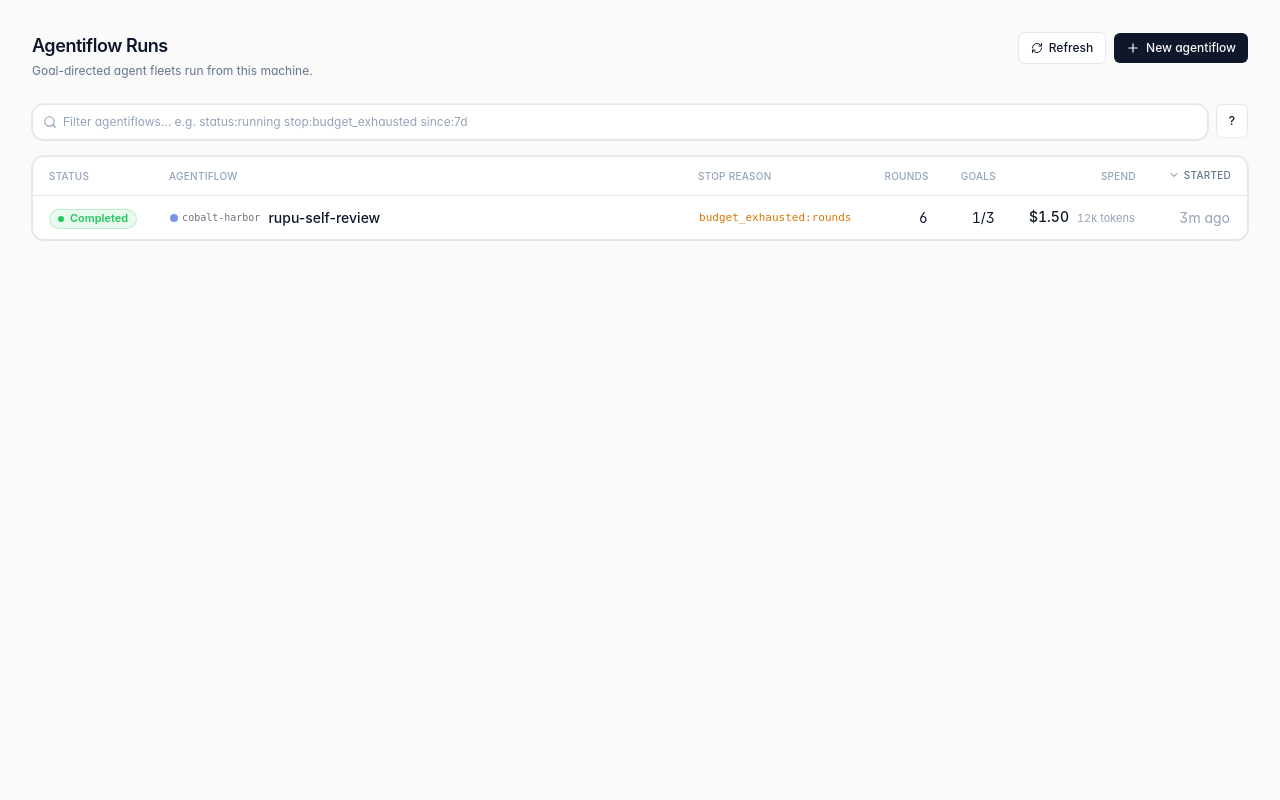
AgentiflowRuns › New agentiflow opens the launcher sheet
The width and height of the screenshot is (1280, 800).
Check: the text "rupu-self-review" is shown, box 268,208 -> 380,228
Click the button "New agentiflow".
click(1181, 48)  # box 1114,33 -> 1248,63
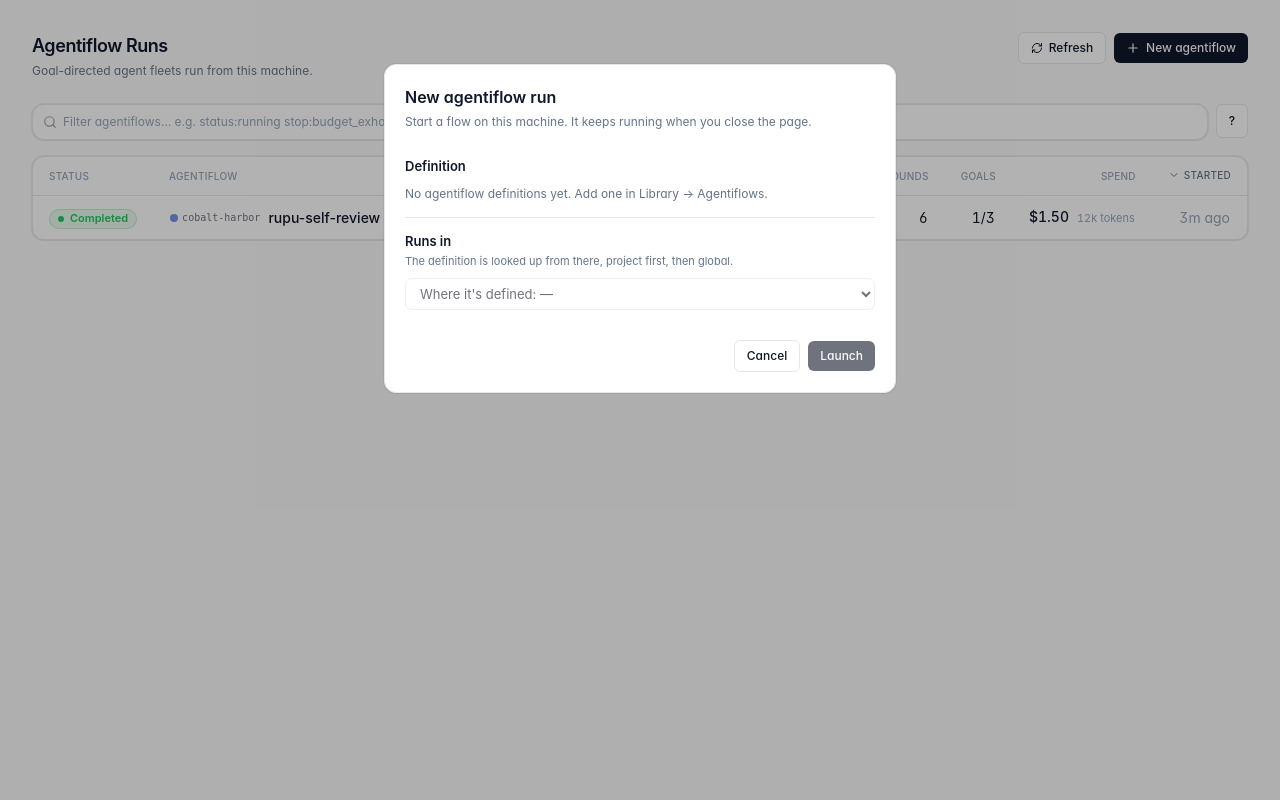
Check: the dialog "New agentiflow run" is shown, box 384,64 -> 896,392
